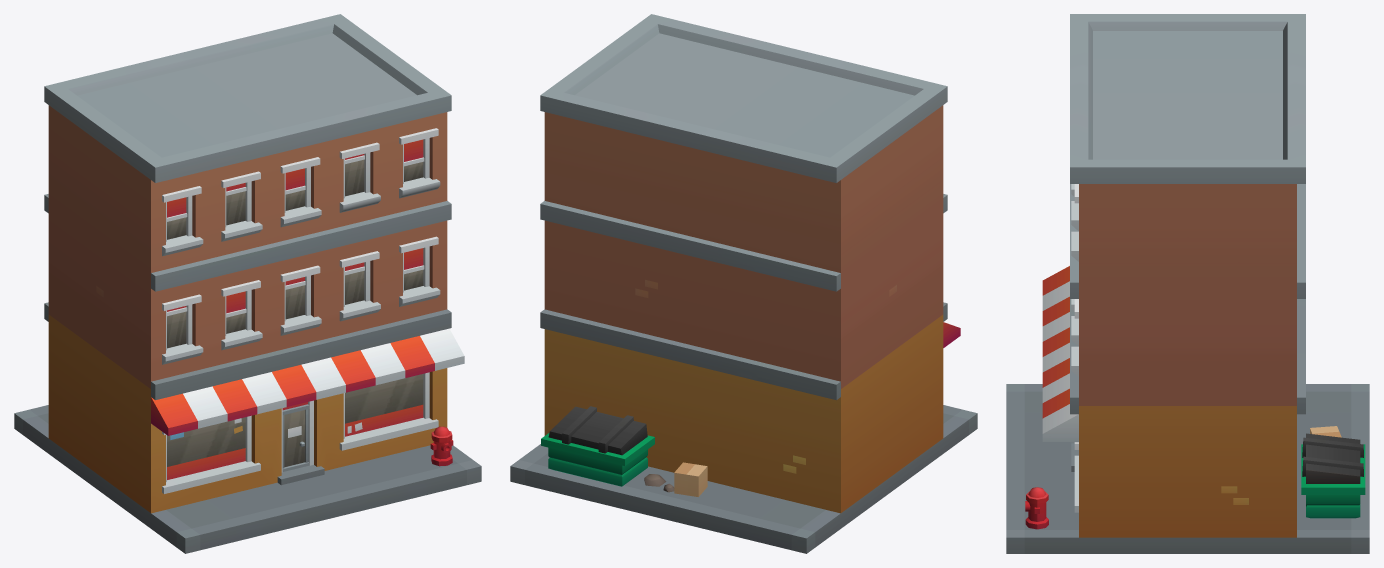
The model's file is arcade.glb.
3 renders of one model, left to right at view 1: azimuth 30°, elevation 25°; view 2: azimuth 150°, elevation 25°; view 3: azimuth 270°, elevation 25°, orthographic. The views are drawn at different scales.
Parts seen in each view (by area): view 1: building_E; view 2: building_E; view 3: building_E.
Part boxes in pixels (bbox=[...]): building_E: bbox=[14, 14, 481, 553]; building_E: bbox=[510, 14, 977, 553]; building_E: bbox=[1006, 14, 1369, 553].
Size of the model in its own units: 2.01 by 2.35 by 2.
1 material, 1 textured.
